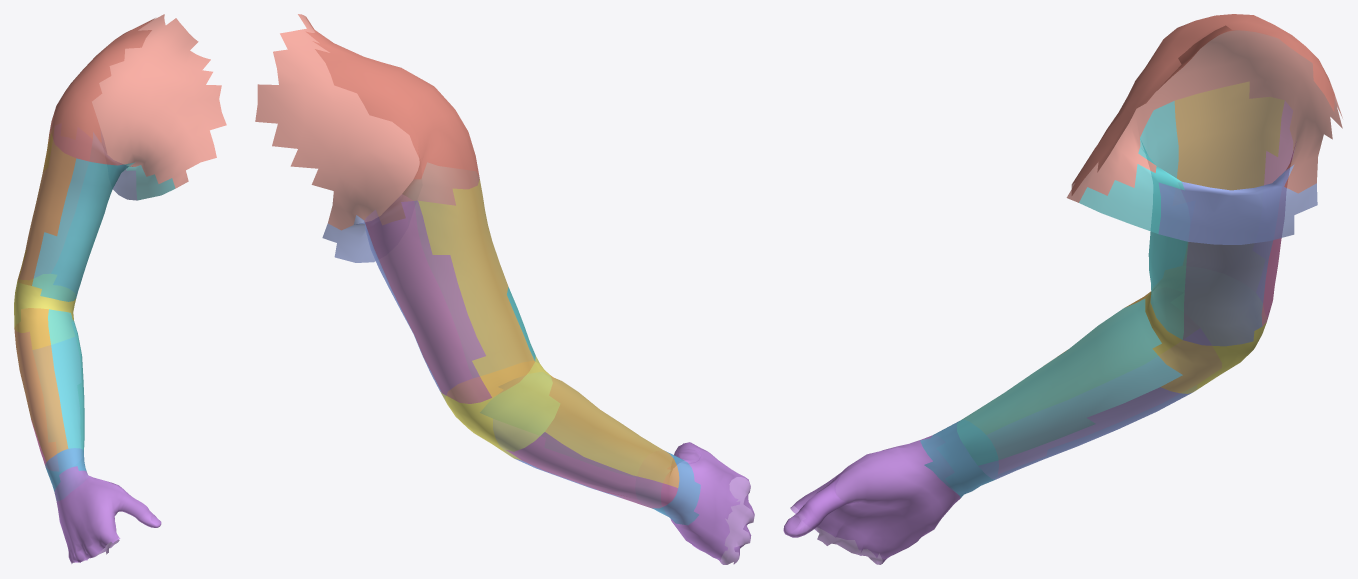
Rendered from right_arm_d3.glb.
3 views of the same model, side by side, from view 1: azimuth 30°, elevation 25°; view 2: azimuth 150°, elevation 25°; view 3: azimuth 270°, elevation 25° (orthographic). The views are drawn at different scales.
Parts seen in each view (by area): view 1: zone_right_shoulder, zone_right_upper_arm_front, zone_right_upper_arm_back, zone_right_hand, zone_right_forearm_outer, zone_right_upper_arm_inner, zone_right_forearm_inner, zone_right_forearm_front, zone_right_elbow, zone_right_upper_arm_outer, zone_right_forearm_back, zone_right_wrist; view 2: zone_right_shoulder, zone_right_upper_arm_front, zone_right_upper_arm_back, zone_right_upper_arm_outer, zone_right_upper_arm_inner, zone_right_forearm_front, zone_right_hand, zone_right_elbow, zone_right_forearm_outer, zone_right_forearm_back, zone_right_forearm_inner, zone_right_wrist; view 3: zone_right_shoulder, zone_right_upper_arm_inner, zone_right_forearm_front, zone_right_hand, zone_right_upper_arm_outer, zone_right_forearm_outer, zone_right_upper_arm_front, zone_right_forearm_back, zone_right_elbow, zone_right_wrist, zone_right_forearm_inner, zone_right_upper_arm_back.
Part boxes in pixels (x1,y1,x2,y2): zone_right_shoulder: (48, 14, 226, 188); zone_right_upper_arm_front: (32, 158, 175, 301); zone_right_upper_arm_back: (19, 124, 91, 279); zone_right_hand: (54, 466, 161, 563); zone_right_forearm_outer: (14, 308, 68, 461); zone_right_upper_arm_inner: (51, 133, 137, 295); zone_right_forearm_inner: (33, 337, 81, 470); zone_right_forearm_front: (48, 309, 84, 455); zone_right_elbow: (14, 274, 76, 349); zone_right_upper_arm_outer: (17, 128, 76, 285); zone_right_forearm_back: (15, 331, 58, 470); zone_right_wrist: (45, 448, 87, 500); zone_right_shoulder: (255, 14, 479, 230); zone_right_upper_arm_front: (403, 163, 538, 377); zone_right_upper_arm_back: (364, 200, 491, 403); zone_right_upper_arm_outer: (418, 179, 534, 397); zone_right_upper_arm_inner: (322, 195, 471, 400); zone_right_forearm_front: (480, 372, 661, 476); zone_right_hand: (661, 442, 754, 564); zone_right_elbow: (440, 356, 560, 460); zone_right_forearm_outer: (545, 375, 679, 487); zone_right_forearm_back: (506, 432, 677, 508); zone_right_forearm_inner: (493, 419, 641, 504); zone_right_wrist: (635, 451, 700, 525); zone_right_shoulder: (1066, 14, 1342, 202); zone_right_upper_arm_inner: (1158, 164, 1317, 346); zone_right_forearm_front: (957, 298, 1182, 465); zone_right_hand: (783, 435, 960, 564); zone_right_upper_arm_outer: (1174, 81, 1284, 291); zone_right_forearm_outer: (962, 287, 1199, 434); zone_right_upper_arm_front: (1079, 101, 1189, 339); zone_right_forearm_back: (987, 329, 1221, 473); zone_right_elbow: (1145, 266, 1267, 393); zone_right_wrist: (920, 420, 998, 497); zone_right_forearm_inner: (978, 385, 1196, 479); zone_right_upper_arm_back: (1253, 100, 1296, 326).
Size of the model in its own units: 0.3255 by 0.5711 by 0.412.
